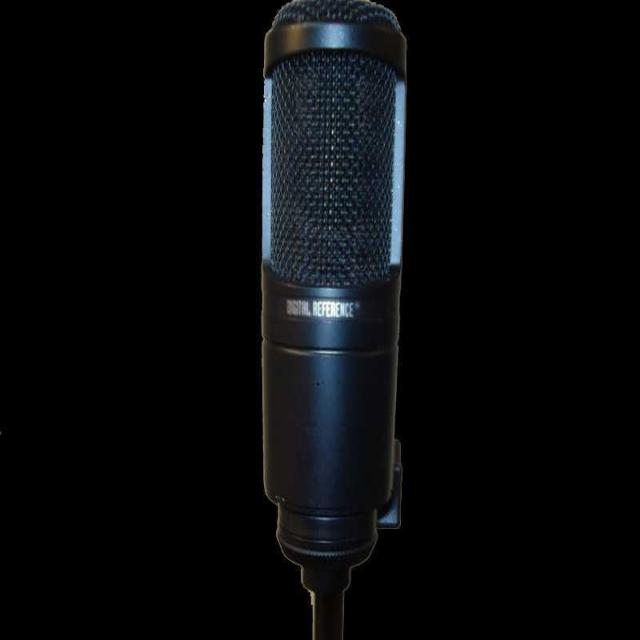microphone: (258, 4, 410, 628)
